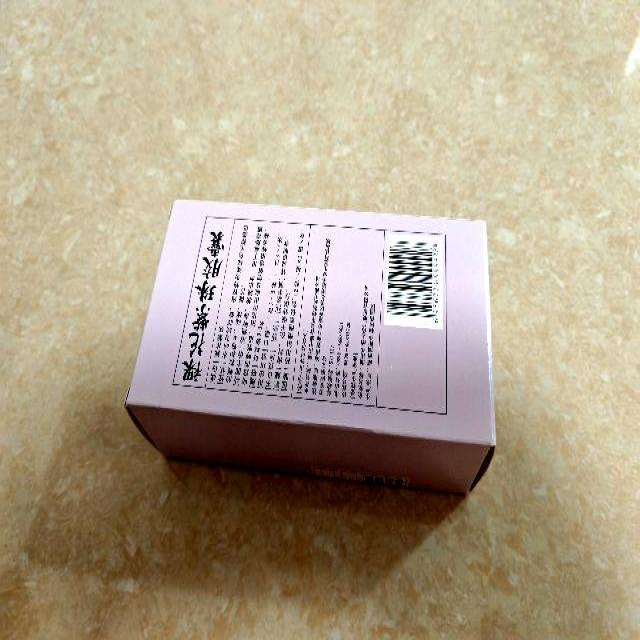box: (125, 196, 498, 496)
